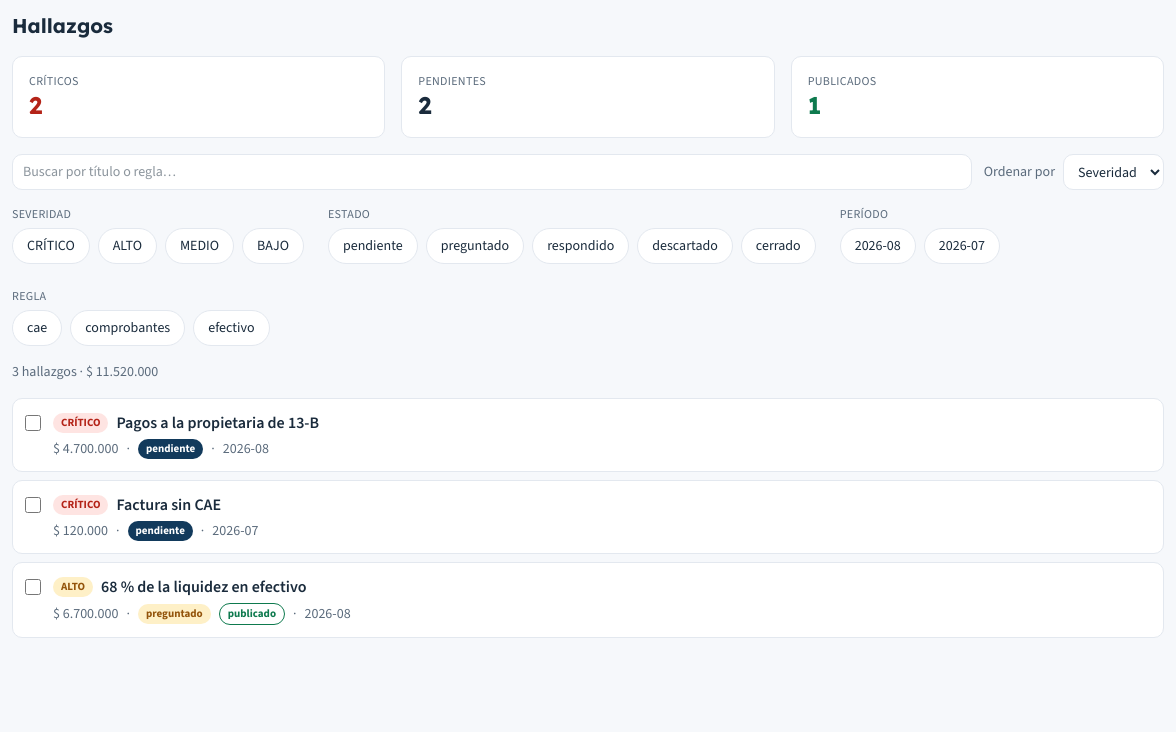
Test: los chips permiten multi-selección y los de regla salen de las filas
This screenshot has width=1176, height=732.
Expected: the text "Pagos a la propietaria de 13-B" is shown, [116,411,319,435]
Expected: the button "cae" is shown, [12,310,62,346]
Click the button "CRÍTICO".
click(51, 246)  # box [12,228,90,264]
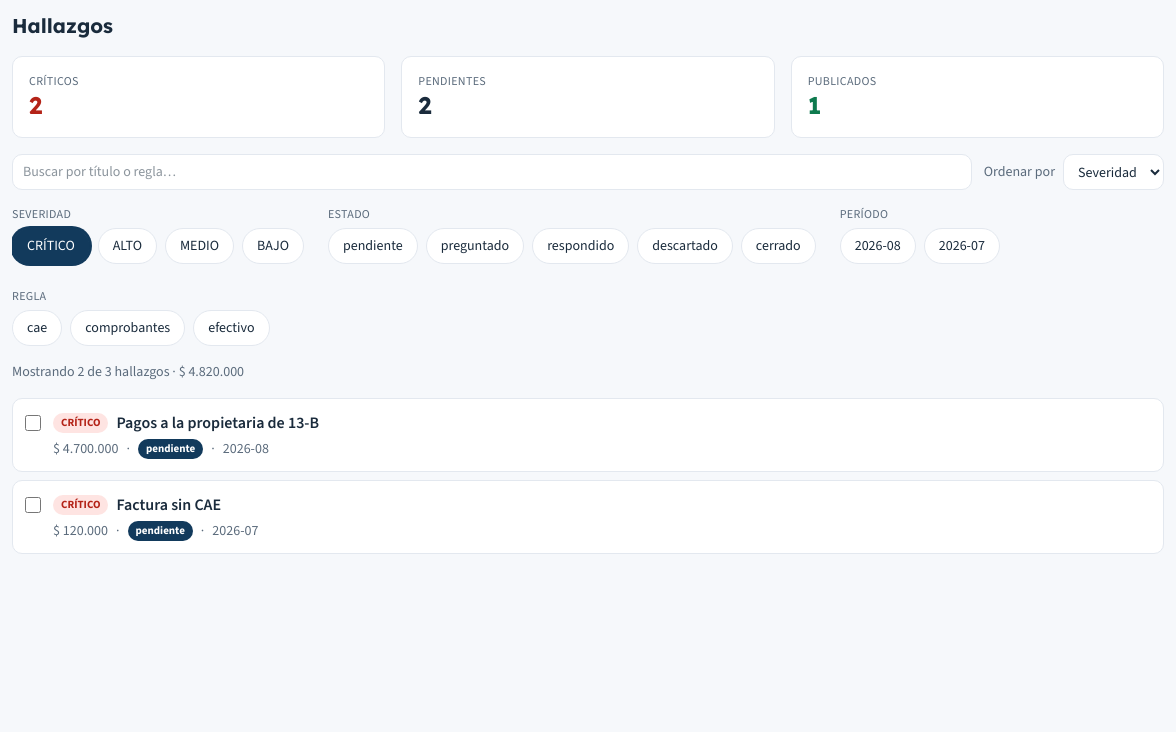
Expected: the button "68 % de la liquidez" is gone
Click the button "ALTO".
click(127, 246)  # box [98,228,157,264]
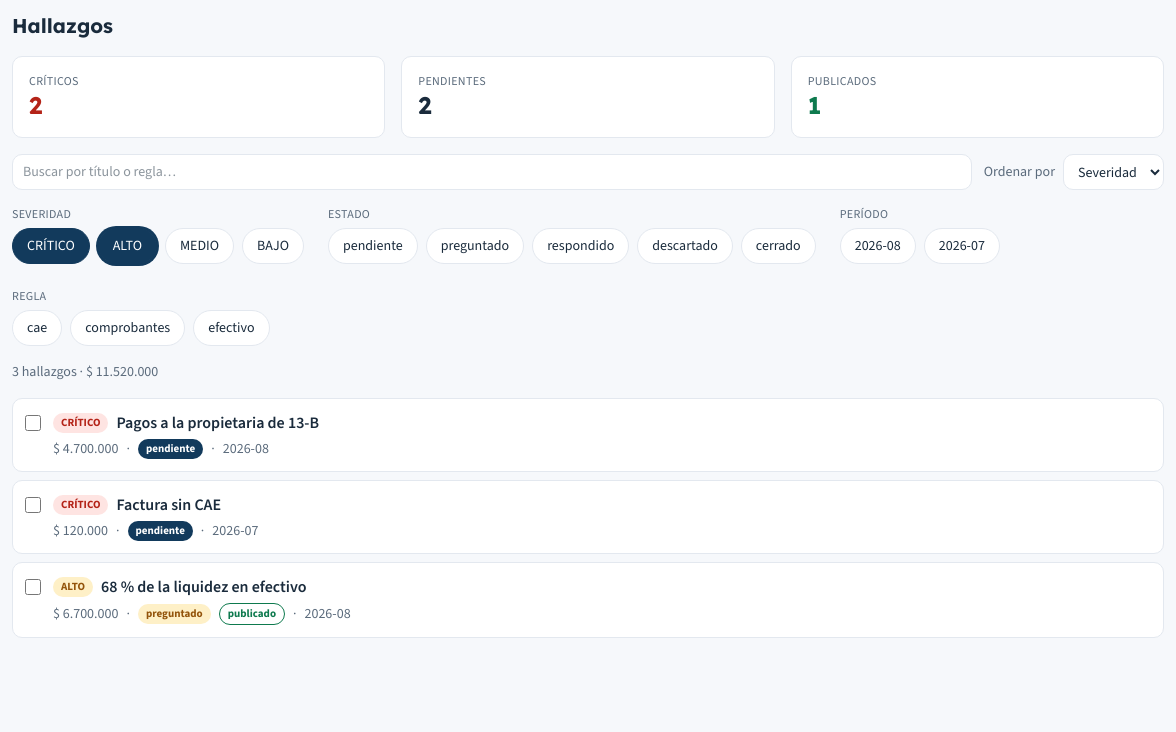
Expected: the text "Pagos a la propietaria de 13-B" is shown, [116,411,319,435]
Expected: the text "68 % de la liquidez en efectivo" is shown, [101,575,307,599]
